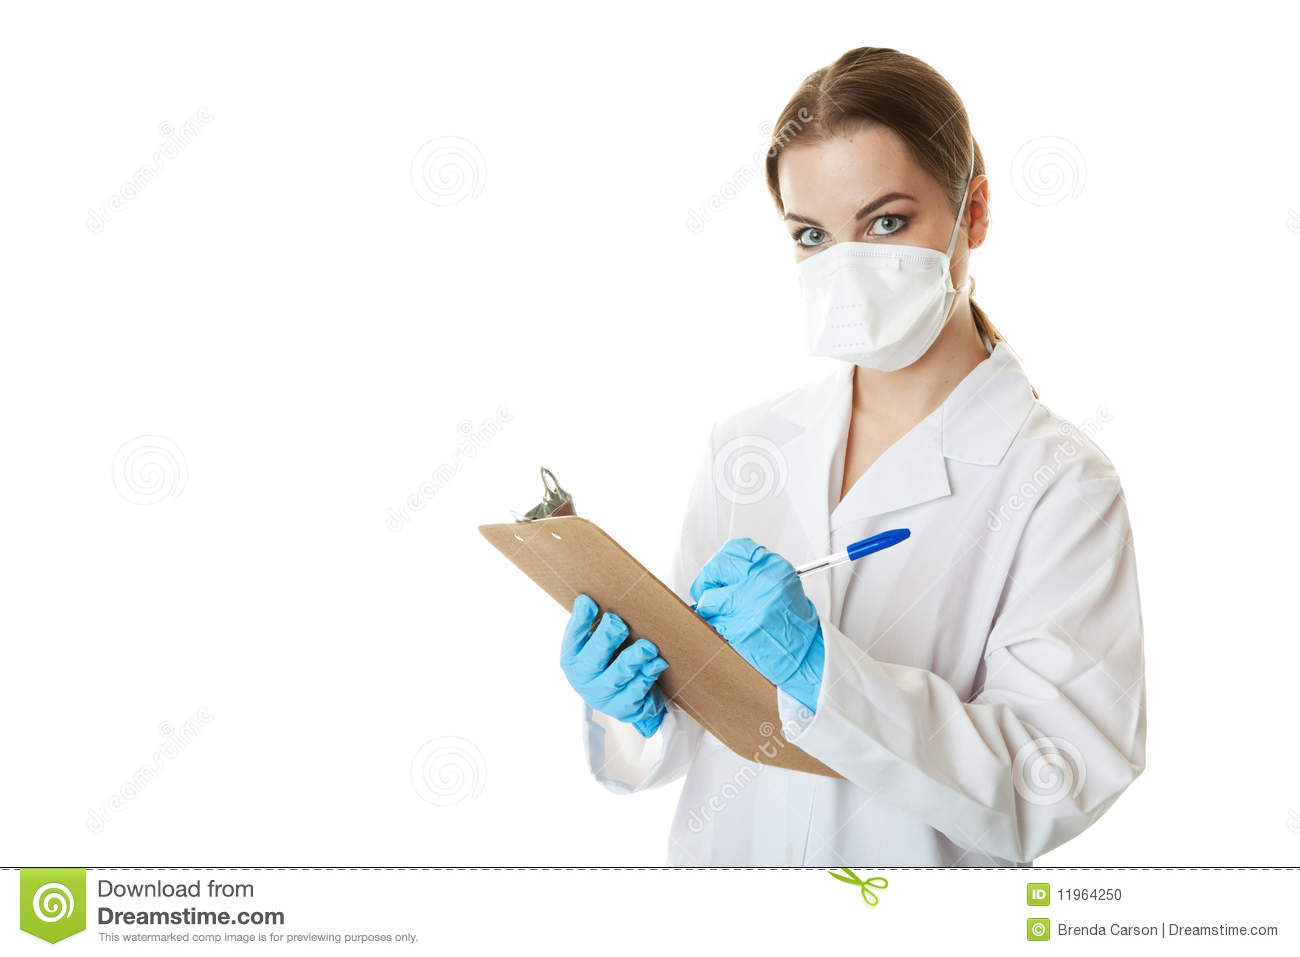mask: (795, 232, 962, 375)
